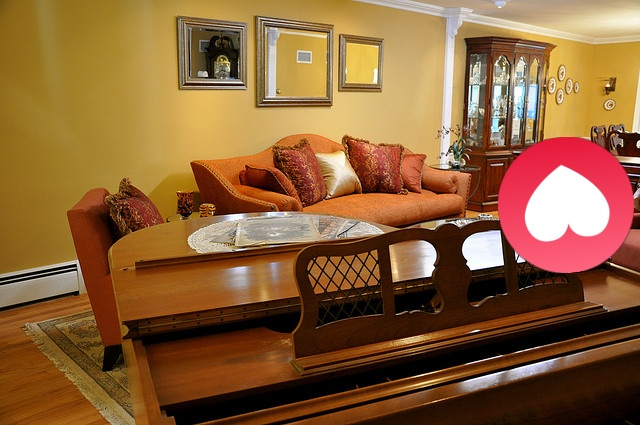love: (498, 137, 634, 273)
